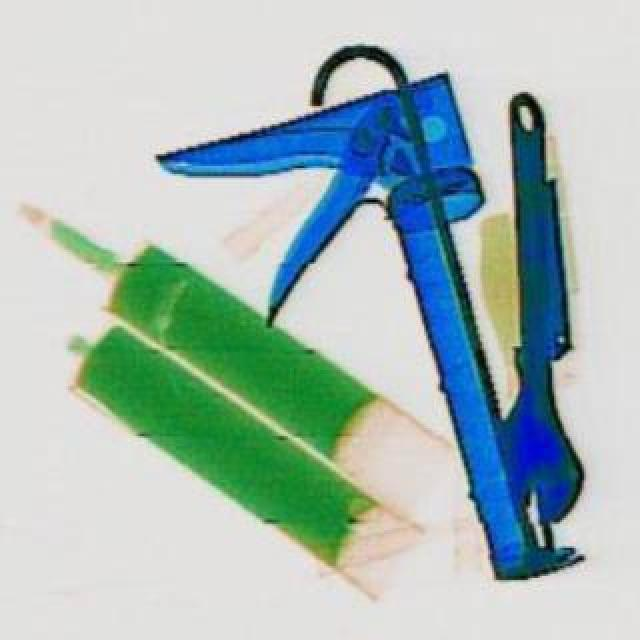knife: (144, 68, 588, 628)
scissors: (444, 86, 584, 522)
